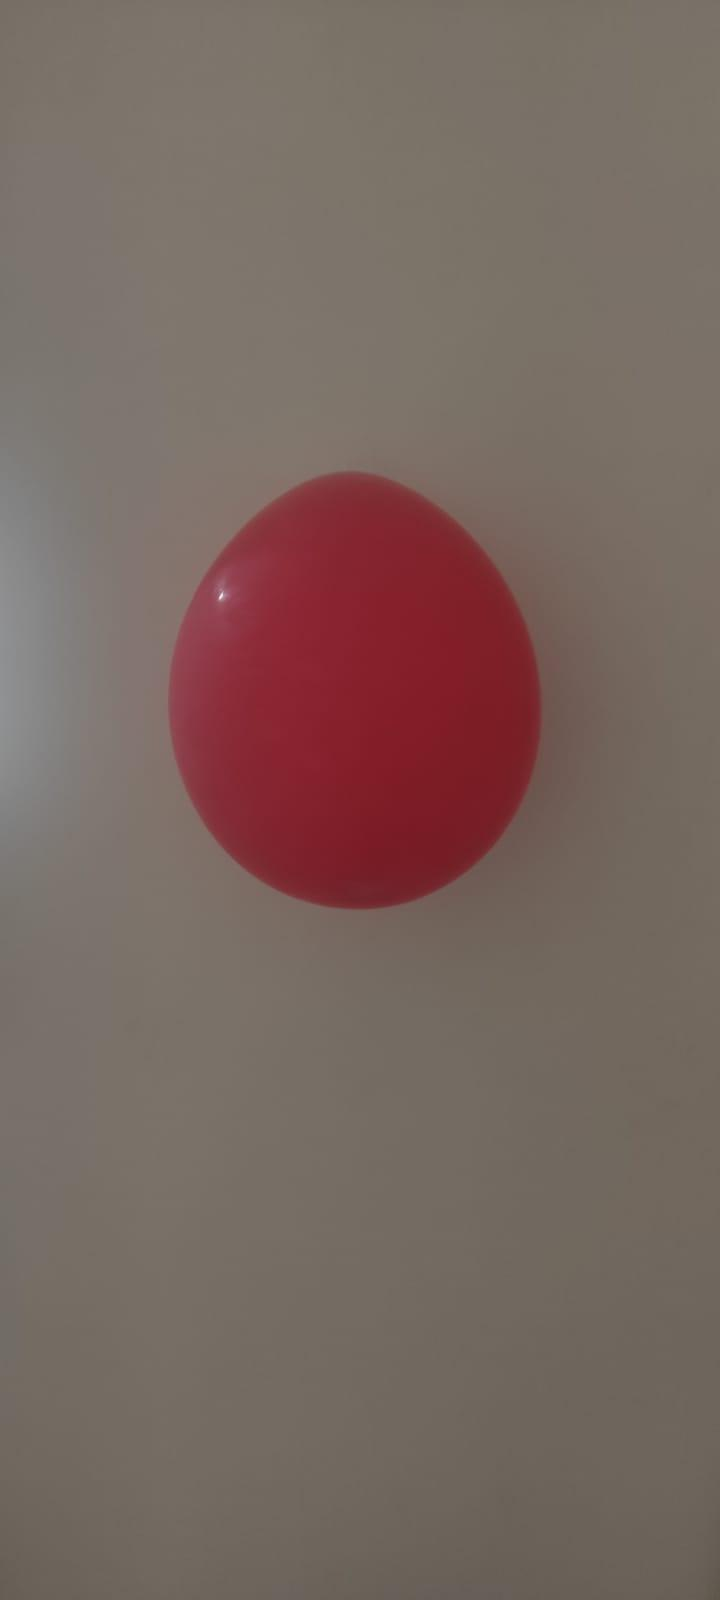red: (167, 467, 559, 918)
